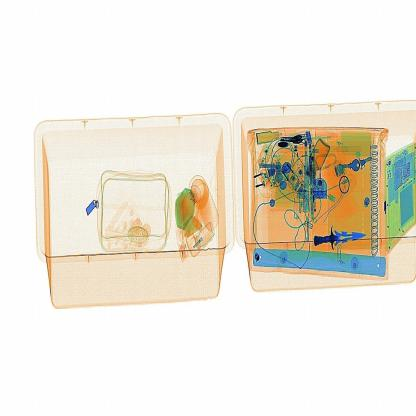wrench: (306, 225, 368, 251)
